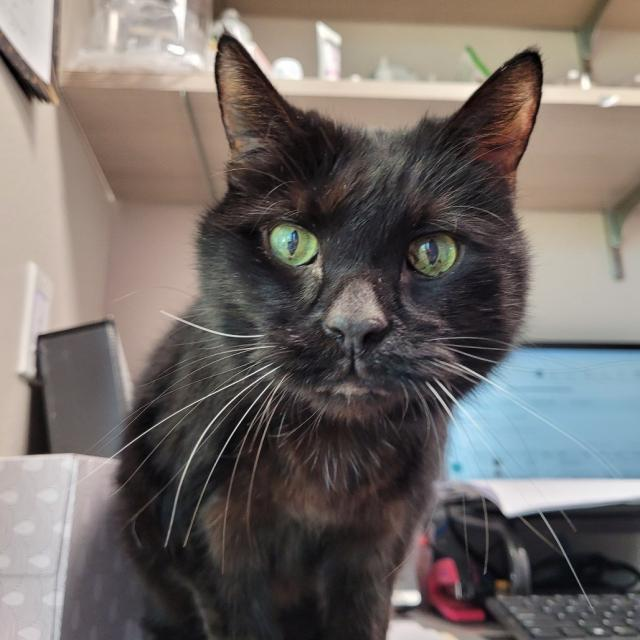manx_cat: (191, 11, 559, 454)
